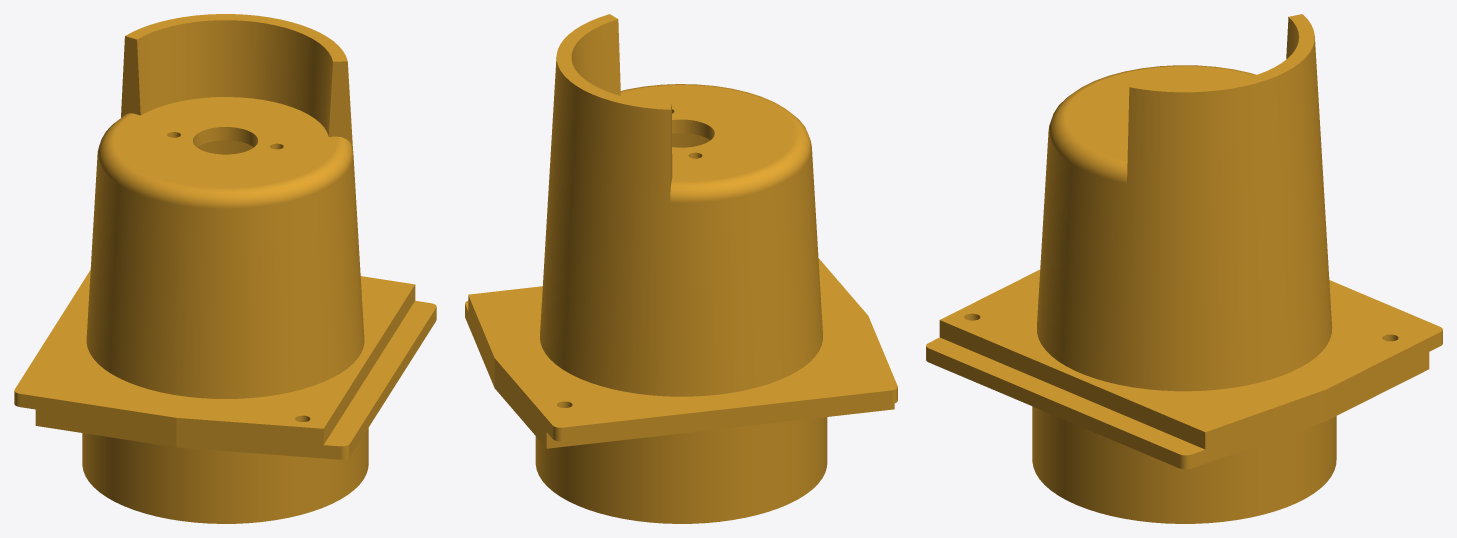
Rendered from 04.5_izolyator-prokhodnoy-uglovoy-ipu-10-150x195.glb.
3 views of the same model, side by side, from view 1: azimuth 30°, elevation 25°; view 2: azimuth 150°, elevation 25°; view 3: azimuth 270°, elevation 25° (orthographic). The views are drawn at different scales.
Parts seen in each view (by area): view 1: 04.5_izolyator-prokhodnoy-uglovoy-ipu-10-150x195; view 2: 04.5_izolyator-prokhodnoy-uglovoy-ipu-10-150x195; view 3: 04.5_izolyator-prokhodnoy-uglovoy-ipu-10-150x195.
Part boxes in pixels (x1=…): 04.5_izolyator-prokhodnoy-uglovoy-ipu-10-150x195: x1=14, y1=14, x2=436, y2=523; 04.5_izolyator-prokhodnoy-uglovoy-ipu-10-150x195: x1=465, y1=14, x2=897, y2=523; 04.5_izolyator-prokhodnoy-uglovoy-ipu-10-150x195: x1=926, y1=14, x2=1442, y2=523.
Bounding box in the file's own units: 297 × 268 × 297.
